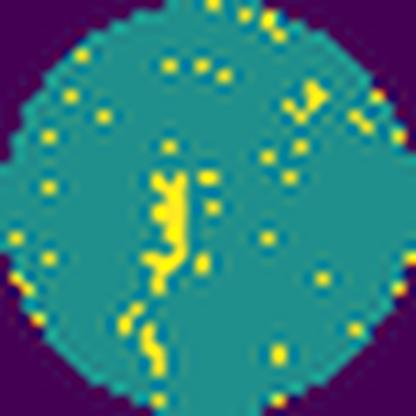Edge-Loc: (136, 167, 190, 291)
